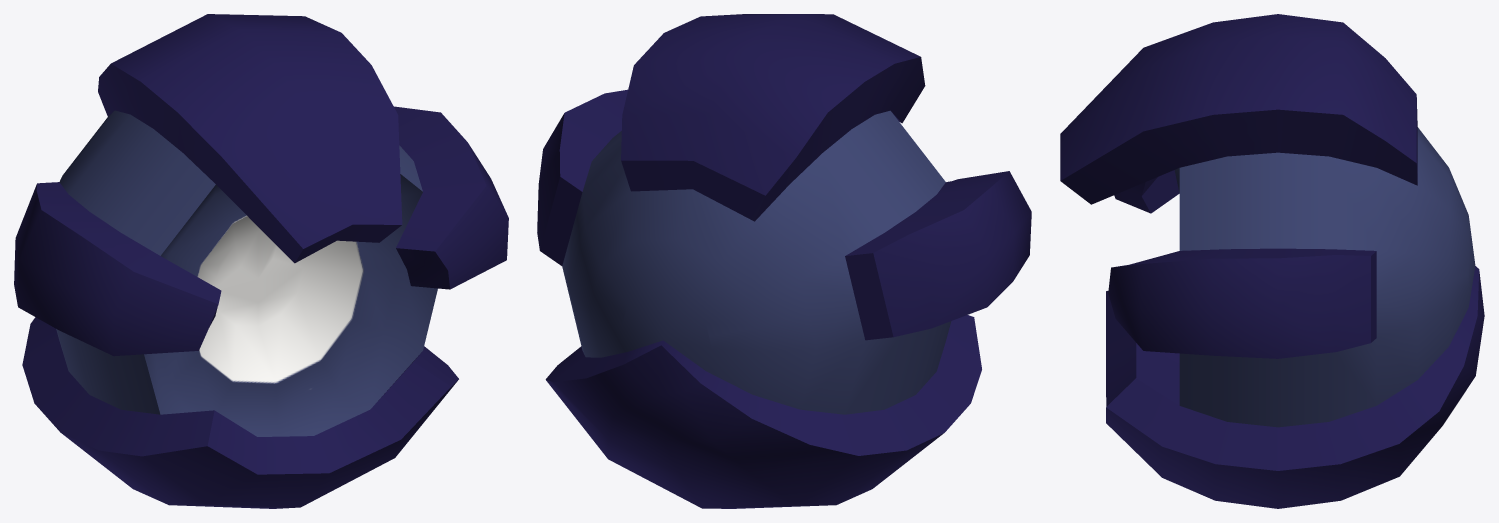
File: Robot02_Drone.fbx
3 views of the same model, side by side, from view 1: azimuth 30°, elevation 25°; view 2: azimuth 150°, elevation 25°; view 3: azimuth 270°, elevation 25° (orthographic). The views are drawn at different scales.
Parts seen in each view (by area): view 1: Robot02_Body; view 2: Robot02_Body; view 3: Robot02_Body.
Boxes of the visible parts, box(x1,y1,x2,y2) form: Robot02_Body: box(14, 14, 508, 508); Robot02_Body: box(537, 14, 1031, 508); Robot02_Body: box(1060, 14, 1484, 508).
Bounding box in the file's own units: 24.12 × 23.88 × 20.35.
